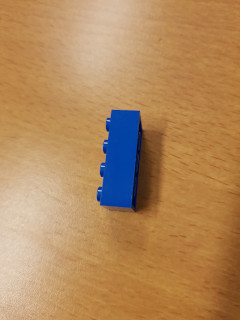2x4 blue: (96, 109, 141, 218)
